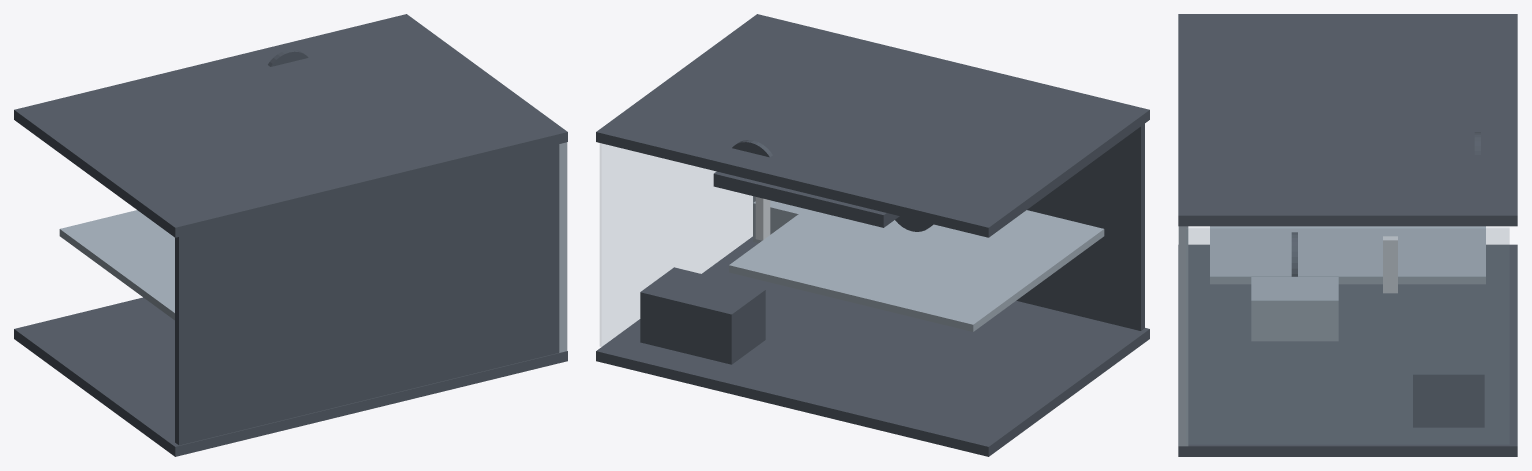
File: 01-workstation.glb
The picture shows the model from 3 angles, left to right: view 1: azimuth 30°, elevation 25°; view 2: azimuth 150°, elevation 25°; view 3: azimuth 270°, elevation 25°; orthographic projection. The views are drawn at different scales.
Visible parts, largest first — view 1: Chassis cross rail, Chassis roof, Chassis floor, Motherboard tray, Chassis structural upright; view 2: Chassis roof, Chassis floor, Motherboard tray, Tempered glass side panel, Chassis cross rail, Power supply enclosure, 360mm radiator, GPU assembly, DDR5 memory module; view 3: Chassis roof, Tempered glass side panel, Chassis floor, Motherboard tray, Power supply enclosure, GPU assembly, Chassis structural upright, DDR5 memory module.
Boxes of the visible parts, x1,y1,x2,y2 form: Chassis cross rail: (175,144,558,445); Chassis roof: (14,14,567,237); Chassis floor: (14,297,567,456); Motherboard tray: (59,210,174,320); Chassis structural upright: (559,142,567,352); Chassis roof: (596,14,1149,237); Chassis floor: (596,236,1149,456); Motherboard tray: (729,209,1104,331); Tempered glass side panel: (600,143,753,346); Chassis cross rail: (1016,123,1144,330); Power supply enclosure: (640,267,765,364); 360mm radiator: (713,171,899,227); GPU assembly: (753,200,805,243); DDR5 memory module: (755,197,770,240); Chassis roof: (1178,14,1517,226); Tempered glass side panel: (1186,227,1509,444); Chassis floor: (1178,244,1517,456); Motherboard tray: (1210,226,1485,284); Power supply enclosure: (1413,327,1484,427); GPU assembly: (1251,277,1338,341); Chassis structural upright: (1178,226,1188,446); DDR5 memory module: (1383,236,1397,293).
Bounding box in the file's own units: 9 × 5.24 × 6.4.
